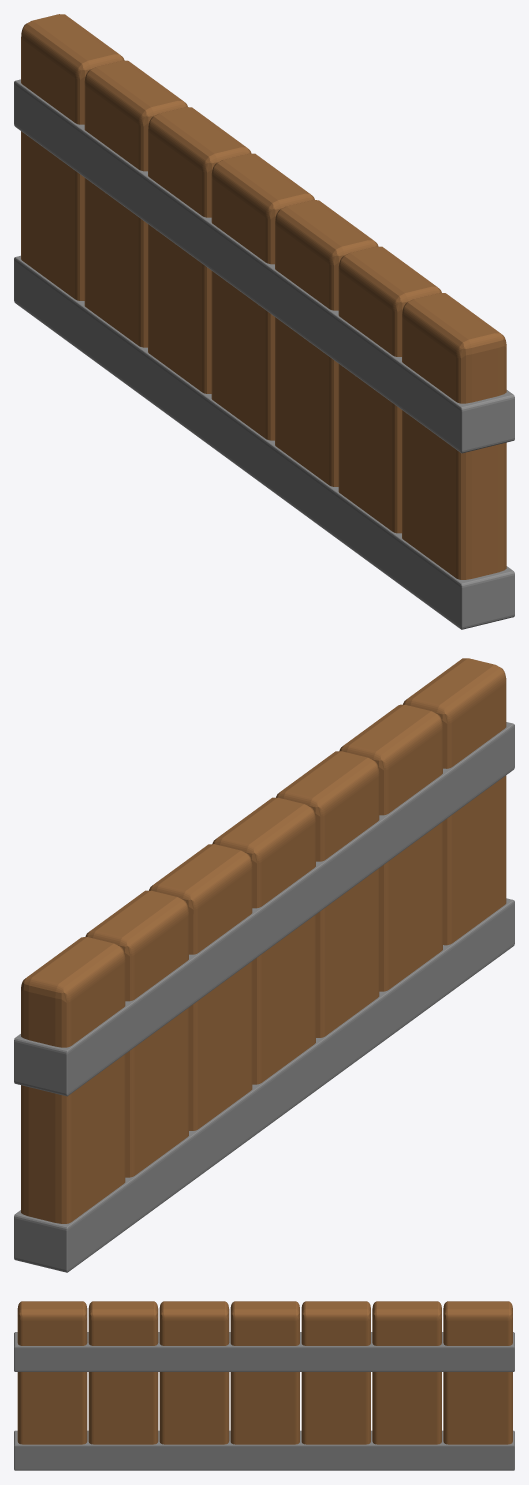
Rendered from ramparts.fbx.
3 views of the same model, one above another, from view 1: azimuth 30°, elevation 25°; view 2: azimuth 150°, elevation 25°; view 3: azimuth 270°, elevation 25° (orthographic). The views are drawn at different scales.
Visible parts, largest first — view 1: Cube.002; view 2: Cube.002; view 3: Cube.002.
Part boxes in pixels (x1,y1,x2,y2): Cube.002: (14,14,514,629); Cube.002: (14,658,514,1272); Cube.002: (14,1301,514,1470).
Size of the model in its own units: 33.11 by 166 by 477.
